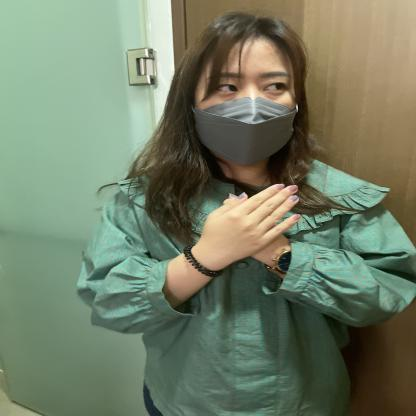Grieve: (106, 143, 416, 355)
